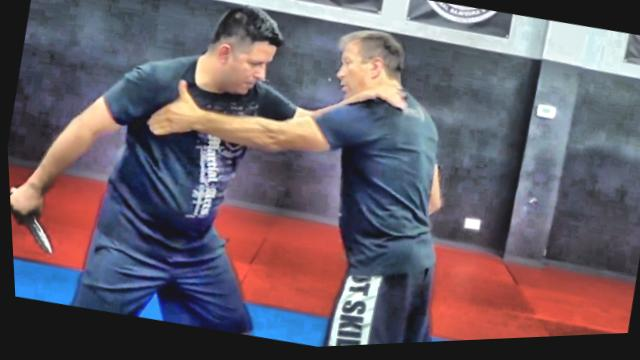knife: (7, 180, 65, 261)
